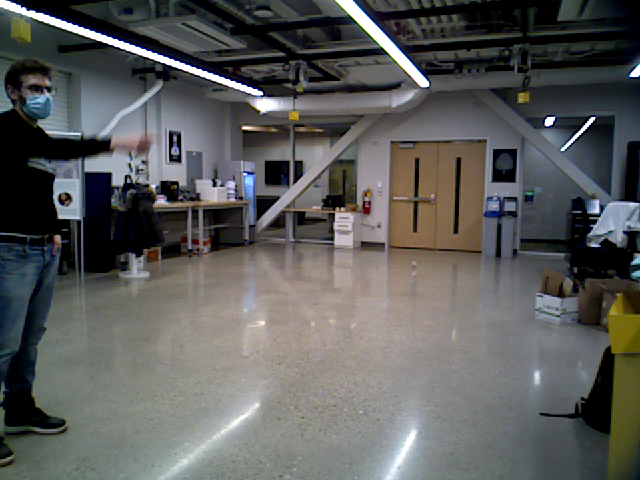painting1: (487, 146, 521, 184)
painting2: (165, 129, 182, 163)
